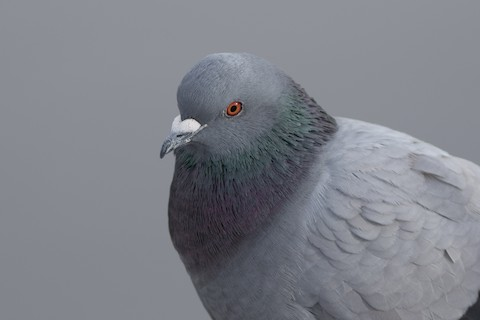pigeon: (152, 47, 475, 315)
